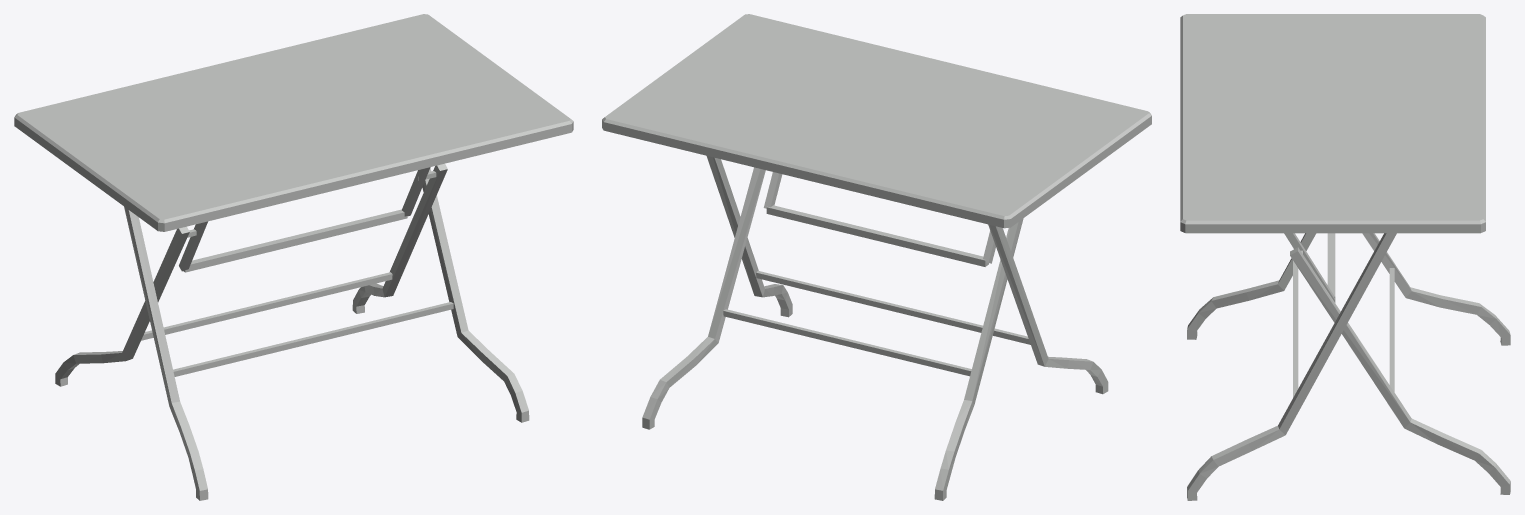
Rendered from SM_Furniture_InoxTable_01.fbx.
3 renders of one model, left to right at view 1: azimuth 30°, elevation 25°; view 2: azimuth 150°, elevation 25°; view 3: azimuth 270°, elevation 25°, orthographic. The views are drawn at different scales.
Visible parts, largest first — view 1: SM_Furniture_InoxTable_01; view 2: SM_Furniture_InoxTable_01; view 3: SM_Furniture_InoxTable_01.
Boxes of the visible parts, <box> form: SM_Furniture_InoxTable_01: <box>14,14,573,500</box>; SM_Furniture_InoxTable_01: <box>602,14,1151,500</box>; SM_Furniture_InoxTable_01: <box>1180,14,1510,500</box>.
Bounding box in the file's own units: 1.07 × 0.72 × 0.7168.
1 material, 1 textured.
